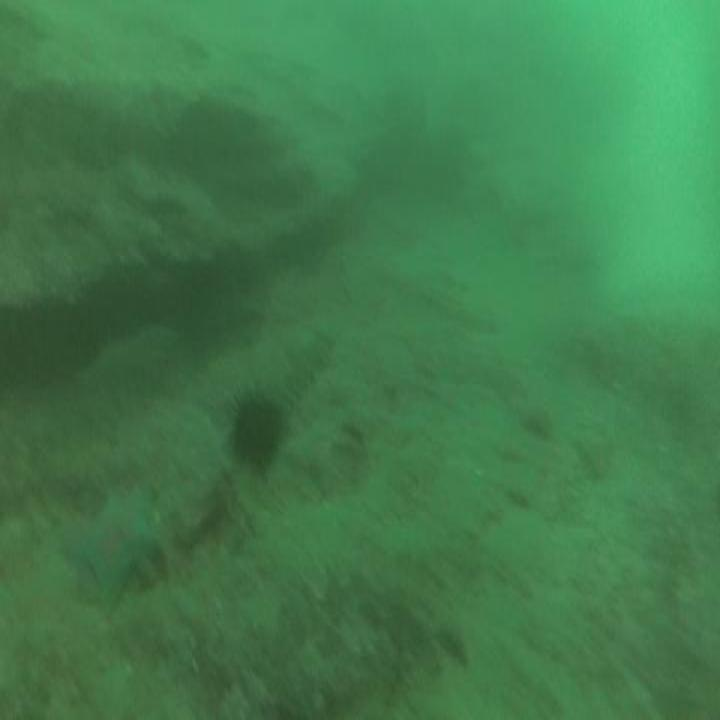echinus: (235, 391, 278, 466)
holothurian: (274, 340, 334, 407)
starfish: (69, 483, 162, 610)
